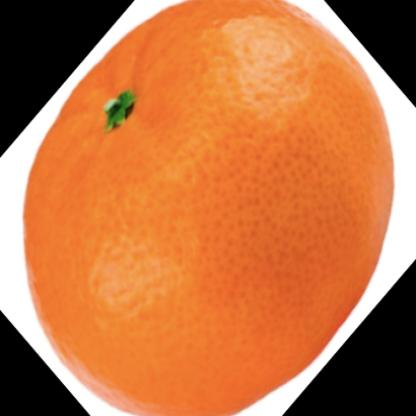fresh: (22, 2, 393, 416)
